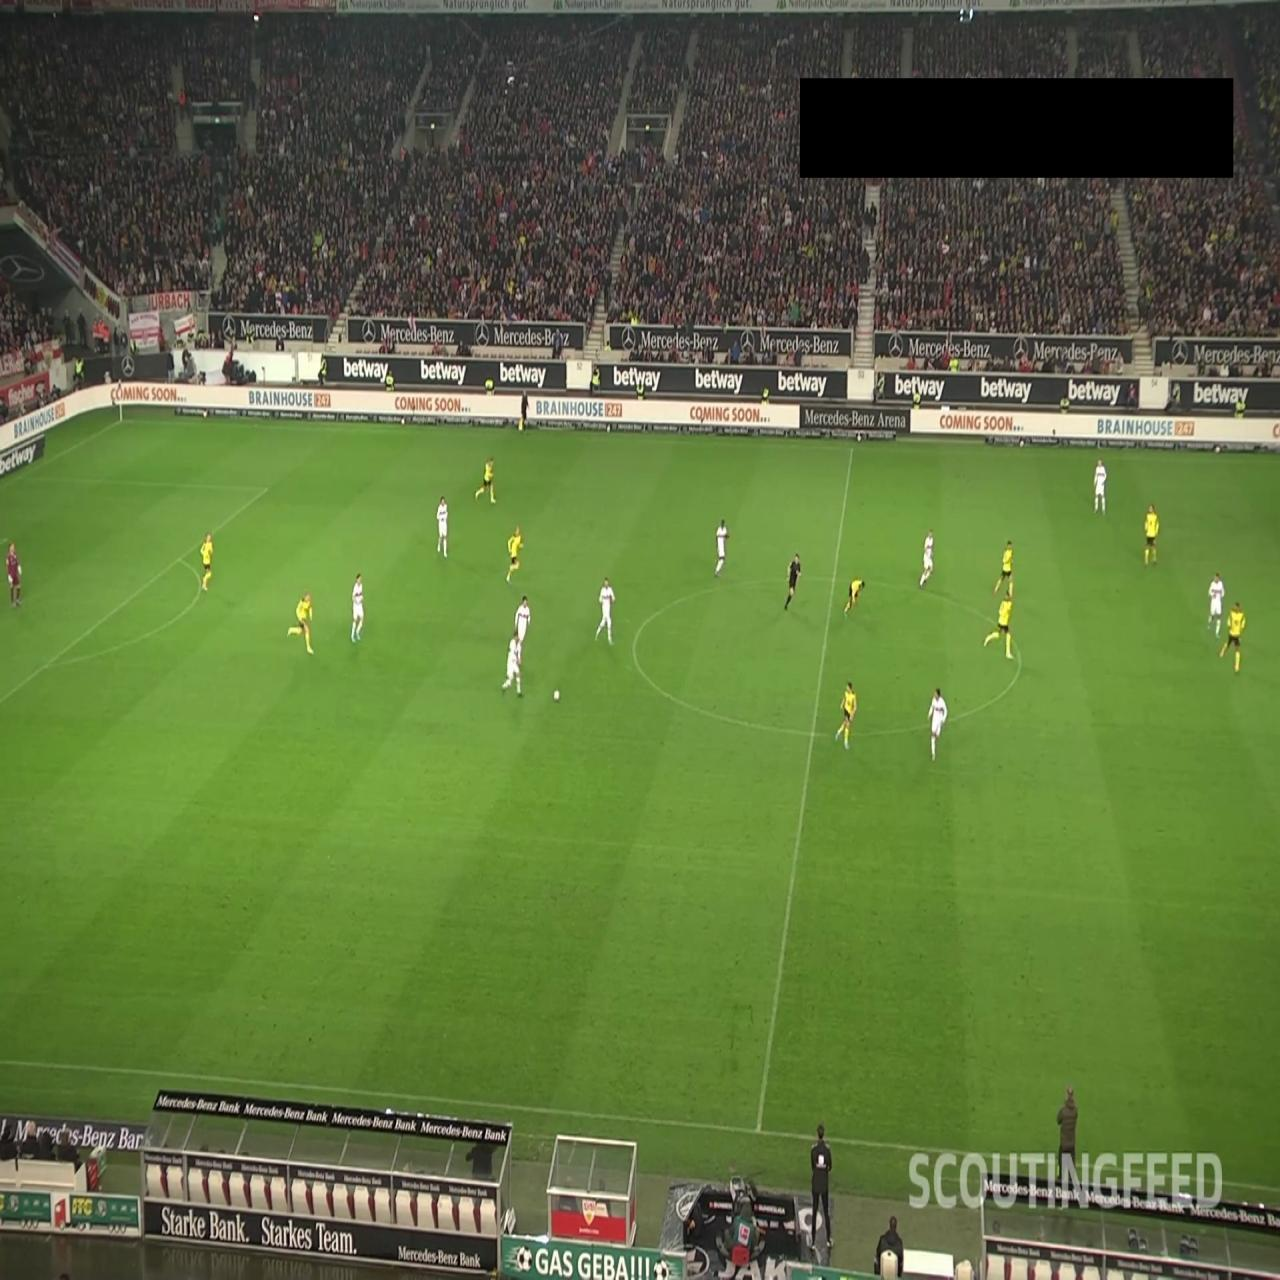ball: (553, 688, 560, 702)
goalkeeper: (6, 542, 22, 606)
player: (982, 588, 1014, 659), (286, 590, 317, 659), (1218, 600, 1246, 673), (927, 686, 948, 762), (835, 680, 857, 749), (595, 575, 616, 645), (501, 633, 523, 697), (993, 539, 1014, 599), (1207, 570, 1225, 638), (514, 592, 530, 662), (506, 524, 524, 583), (476, 456, 498, 504), (198, 531, 214, 596), (1144, 502, 1160, 566), (714, 517, 731, 576), (919, 526, 934, 588), (351, 572, 364, 642), (844, 578, 866, 615), (436, 495, 449, 557), (1094, 458, 1108, 514)
referee: (784, 551, 802, 610), (520, 391, 530, 433)
